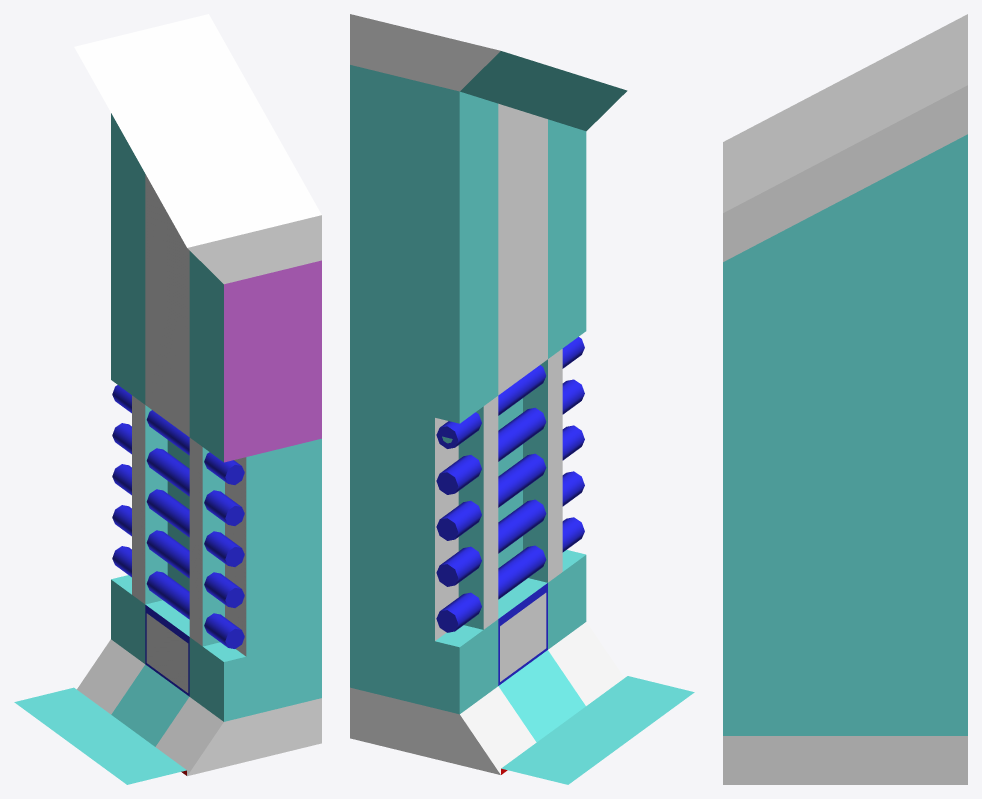
Rendered from Wall-BaseToTall.fbx.
3 views of the same model, side by side, from view 1: azimuth 30°, elevation 25°; view 2: azimuth 150°, elevation 25°; view 3: azimuth 270°, elevation 25° (orthographic). The views are drawn at different scales.
Parts seen in each view (by area): view 1: BaseToTall; view 2: BaseToTall; view 3: BaseToTall.
Boxes of the visible parts, x1,y1,x2,y2 form: BaseToTall: (14,14,321,784); BaseToTall: (350,14,694,784); BaseToTall: (723,14,967,784).
Bounding box in the file's own units: 78.28 × 248 × 78.74.
